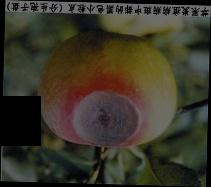rotten apple: (37, 34, 180, 151)
